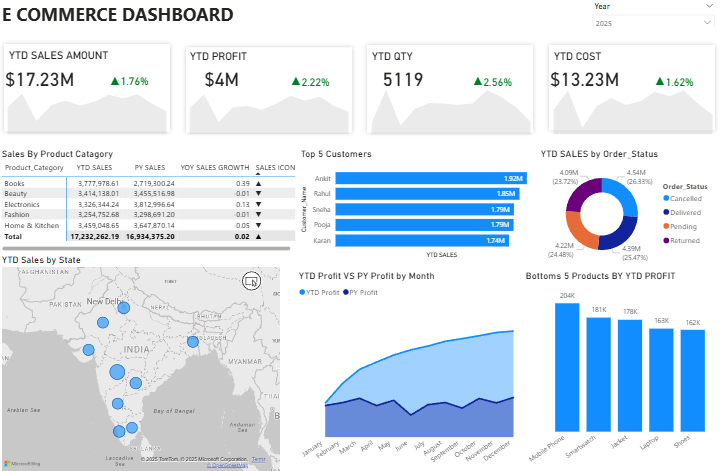

This screenshot's page, from the dashboard's own definition file:
{"tool":"powerbi","page":{"name":"Page 1","canvas":[1300,850],"ordinal":0},"visuals":[{"type":"textbox","box":[0,0,1300,60.7],"z":0},{"type":"shape","box":[0,72.3,314.4,174.5],"z":1000},{"type":"shape","box":[324.4,73.1,314.4,174.5],"z":2000},{"type":"shape","box":[649.1,73.1,314.4,174.5],"z":3000},{"type":"shape","box":[973.8,73.1,314.4,174.5],"z":4000},{"type":"card","fields":{"Values":["Ecommerce_2023_2025.YTD SALES"]},"box":[0,110.2,145.1,58.7],"z":5000,"group":"g1"},{"type":"card","fields":{"Values":["Ecommerce_2023_2025.YTD Profit"]},"box":[324.4,111.1,145.1,58.7],"z":5000},{"type":"card","fields":{"Values":["Ecommerce_2023_2025.YTD QTY"]},"box":[649.1,111.1,145.1,58.7],"z":6000},{"type":"card","fields":{"Values":["Ecommerce_2023_2025.YTD COST"]},"box":[973.8,111.1,145.1,58.7],"z":7000},{"type":"card","fields":{"Values":["Ecommerce_2023_2025.Yoy sales profit"]},"box":[493.7,126.6,145.1,43.2],"z":8000},{"type":"card","fields":{"Values":["Ecommerce_2023_2025.yoy sales"]},"box":[169.3,125.8,145.1,43.2],"z":9000,"group":"g1"},{"type":"card","fields":{"Values":["Ecommerce_2023_2025.ytd growth"]},"box":[818.4,126.6,145.1,43.2],"z":9000},{"type":"card","fields":{"Values":["Ecommerce_2023_2025.ytd crost grow"]},"box":[1143.1,126.6,145.1,43.2],"z":10000},{"type":"areaChart","fields":{"Category":["Data_table.Month"],"Y":["Ecommerce_2023_2025.Profit"]},"box":[324.8,139.9,314.4,107.1],"z":11000},{"type":"areaChart","fields":{"Category":["Data_table.Month"],"Y":["Ecommerce_2023_2025.Quantity"]},"box":[649.6,110.6,314.4,136.5],"z":12000},{"type":"areaChart","fields":{"Category":["Data_table.Month"],"Y":["Ecommerce_2023_2025.Revenue"]},"box":[0,139.9,314.4,107.1],"z":13000,"group":"g1"},{"type":"areaChart","fields":{"Category":["Data_table.Month"],"Y":["Ecommerce_2023_2025.Cost"]},"box":[974.4,139.9,314.4,107.1],"z":13000},{"type":"slicer","fields":{"Values":["Data_table.Year"]},"box":[1050.8,0,237.7,49.2],"z":14000},{"type":"textbox","box":[336.5,85.2,219.4,41.5],"z":15000},{"type":"textbox","box":[661.2,85.2,219.4,41.5],"z":16000},{"type":"textbox","box":[985.9,85.2,219.4,41.5],"z":17000},{"type":"textbox","box":[12.1,84.3,219.4,41.5],"z":18000,"group":"g1"},{"type":"card","fields":{"Values":["Ecommerce_2023_2025.Sales Icon"]},"box":[506.1,130.8,50,34.4],"z":18000},{"type":"card","fields":{"Values":["Ecommerce_2023_2025.Sales Icon"]},"box":[830.7,130.8,50,34.4],"z":19000},{"type":"card","fields":{"Values":["Ecommerce_2023_2025.Sales Icon"]},"box":[1155.4,130.8,50,34.4],"z":20000},{"type":"group","id":"g1","title":"Group 1","box":[0,84.3,314.4,162.7],"z":21000},{"type":"card","fields":{"Values":["Ecommerce_2023_2025.Sales Icon"]},"box":[181.7,129.9,50,34.4],"z":22000,"group":"g1"},{"type":"pivotTable","title":"Sales By  Product Catagory","fields":{"Rows":["Ecommerce_2023_2025.Product_Category"],"Values":["Ecommerce_2023_2025.YTD SALES","Ecommerce_2023_2025.PY SALES","Ecommerce_2023_2025.YOY SALES GGROWTH","Ecommerce_2023_2025.SALES ICON"]},"box":[0,266.1,533.9,189.3],"z":22000},{"type":"map","title":"YTD Sales by State","fields":{"Category":["Ecommerce_2023_2025.State"],"Size":["Ecommerce_2023_2025.YTD SALES"]},"box":[0,456.1,506.2,393.9],"z":23000},{"type":"areaChart","title":"YTD Profit VS PY Profit by Month","fields":{"Category":["Data_table.Month"],"Y":["Ecommerce_2023_2025.YTD Profit","Ecommerce_2023_2025.PY Profit"]},"box":[529.6,483.3,405.6,366.7],"z":24000},{"type":"barChart","title":"Top 5 Customers","fields":{"Category":["Ecommerce_2023_2025.Customer_Name"],"Y":["Ecommerce_2023_2025.YTD SALES"]},"box":[533.3,266.7,451.9,201.9],"z":25000},{"type":"donutChart","fields":{"Category":["Ecommerce_2023_2025.Order_Status"],"Y":["Ecommerce_2023_2025.YTD SALES"]},"box":[963,266.7,325.9,216.7],"z":26000},{"type":"clusteredColumnChart","title":"Bottoms 5 Products BY YTD PROFIT","fields":{"Category":["Ecommerce_2023_2025.Product_Name"],"Y":["Ecommerce_2023_2025.YTD Profit"]},"box":[935.2,483.3,353.7,366.7],"z":27000}]}

Visuals, with their boxes in screenshot pixels (x1, y1, x2, y2), scaled from the page's 1300x850 canvas onto the 721x471 screenshot:
textbox: 0, 0, 720, 34
shape: 0, 40, 174, 137
shape: 180, 41, 354, 137
shape: 360, 41, 534, 137
shape: 540, 41, 714, 137
card - Ecommerce_2023_2025.YTD SALES: 0, 61, 80, 94
card - Ecommerce_2023_2025.YTD Profit: 180, 62, 260, 94
card - Ecommerce_2023_2025.YTD QTY: 360, 62, 440, 94
card - Ecommerce_2023_2025.YTD COST: 540, 62, 621, 94
card - Ecommerce_2023_2025.Yoy sales profit: 274, 70, 354, 94
card - Ecommerce_2023_2025.yoy sales: 94, 70, 174, 94
card - Ecommerce_2023_2025.ytd growth: 454, 70, 534, 94
card - Ecommerce_2023_2025.ytd crost grow: 634, 70, 714, 94
areaChart - Data_table.Month x Ecommerce_2023_2025.Profit: 180, 78, 355, 137
areaChart - Data_table.Month x Ecommerce_2023_2025.Quantity: 360, 61, 535, 137
areaChart - Data_table.Month x Ecommerce_2023_2025.Revenue: 0, 78, 174, 137
areaChart - Data_table.Month x Ecommerce_2023_2025.Cost: 540, 78, 715, 137
slicer - Data_table.Year: 583, 0, 715, 27
textbox: 187, 47, 308, 70
textbox: 367, 47, 488, 70
textbox: 547, 47, 668, 70
textbox: 7, 47, 128, 70
card - Ecommerce_2023_2025.Sales Icon: 281, 72, 308, 92
card - Ecommerce_2023_2025.Sales Icon: 461, 72, 488, 92
card - Ecommerce_2023_2025.Sales Icon: 641, 72, 669, 92
"Group 1" group: 0, 47, 174, 137
card - Ecommerce_2023_2025.Sales Icon: 101, 72, 129, 91
"Sales By  Product Catagory" pivotTable: 0, 147, 296, 252
"YTD Sales by State" map: 0, 253, 281, 470
"YTD Profit VS PY Profit by Month" areaChart: 294, 268, 519, 470
"Top 5 Customers" barChart: 296, 148, 546, 260
donutChart - Ecommerce_2023_2025.Order_Status x Ecommerce_2023_2025.YTD SALES: 534, 148, 715, 268
"Bottoms 5 Products BY YTD PROFIT" clusteredColumnChart: 519, 268, 715, 470
